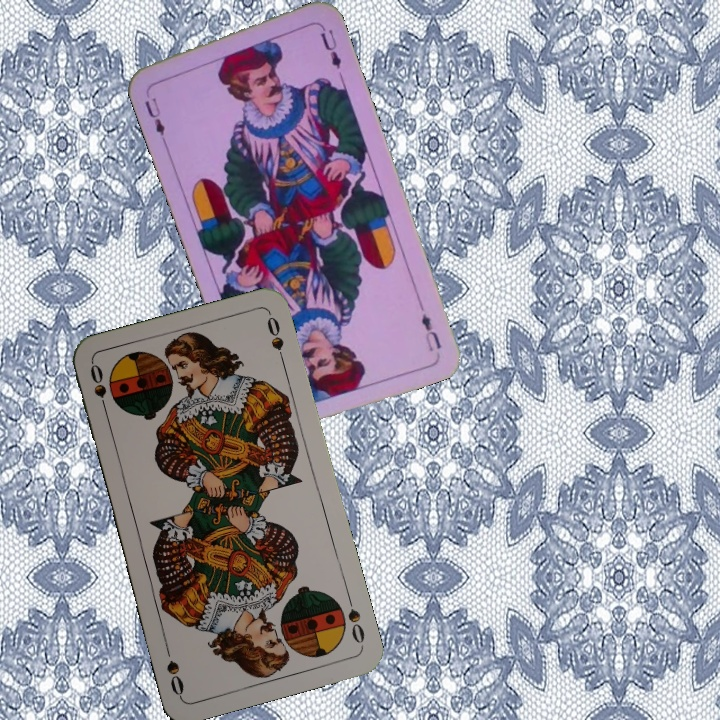EU: (140, 93, 168, 139), (417, 309, 444, 354)
SO: (86, 360, 111, 418), (343, 591, 367, 649)
